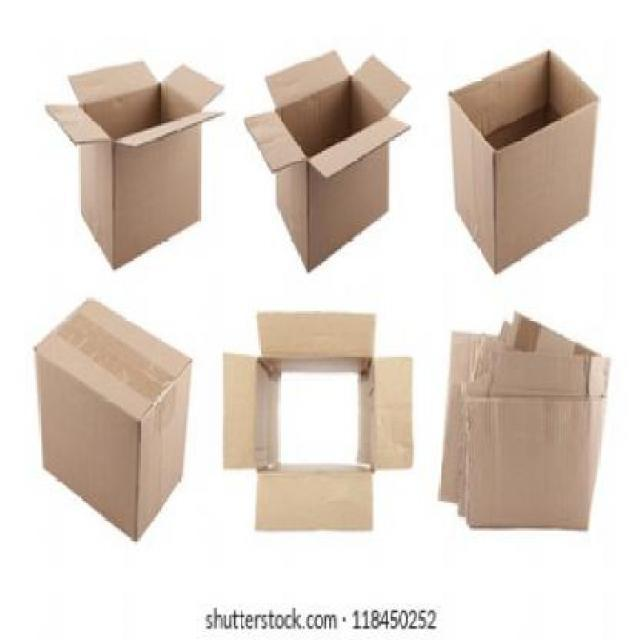box: (35, 294, 190, 542), (246, 57, 410, 271), (48, 65, 216, 271), (447, 46, 597, 274)
